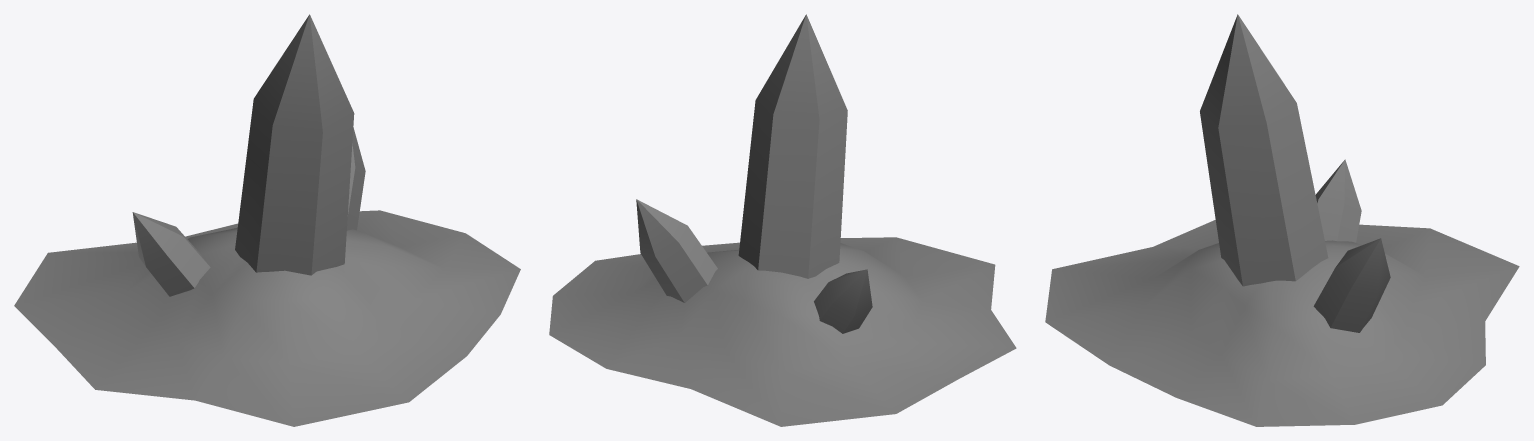
The model's file is crystal_ice_A_blue.fbx.
3 renders of one model, left to right at view 1: azimuth 30°, elevation 25°; view 2: azimuth 150°, elevation 25°; view 3: azimuth 270°, elevation 25°, orthographic. The views are drawn at different scales.
Parts seen in each view (by area): view 1: crystal_ice_A_blue; view 2: crystal_ice_A_blue; view 3: crystal_ice_A_blue.
Boxes of the visible parts, x1,y1,x2,y2 form: crystal_ice_A_blue: (14, 14, 520, 426); crystal_ice_A_blue: (549, 14, 1016, 426); crystal_ice_A_blue: (1045, 14, 1519, 426).
Bounding box in the file's own units: 0.9718 × 0.7453 × 0.9255.
